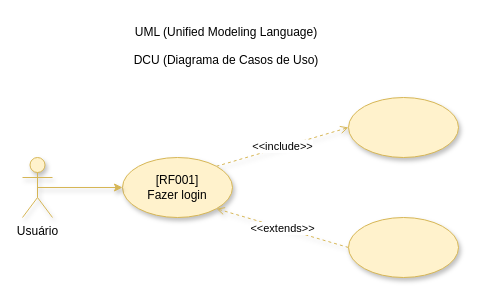
The diagram is 482 pixels wide and 302 high, and some of its shapes have lost their labels. Each missing label, with the centre of its shape:
"[RF001.1] Informar e-mail e senha" belongs at point (404, 128).
"[RF001.2] Exibir mensagem de erro" belongs at point (404, 248).
